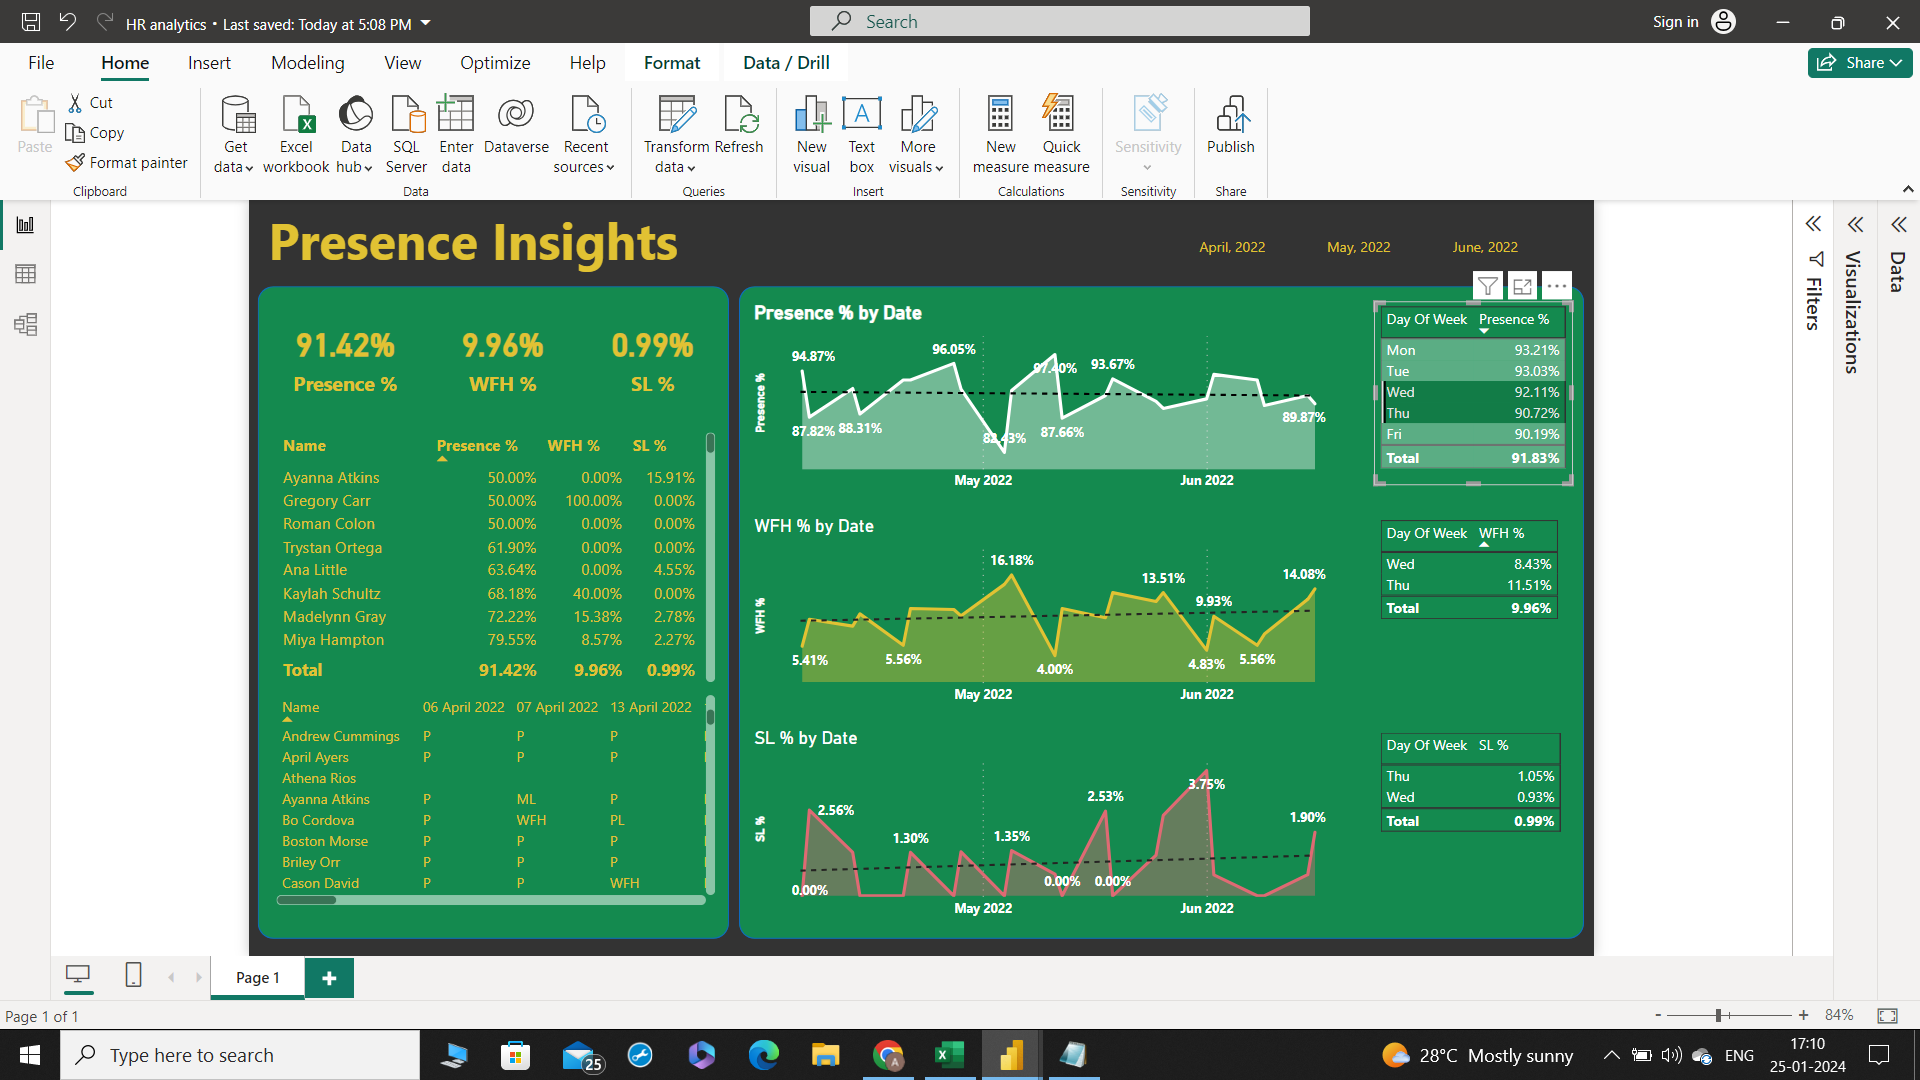

What the dashboard file says about the page in this screenshot:
{"tool":"powerbi","page":{"name":"Page 1","canvas":[1280,720],"ordinal":0},"visuals":[{"type":"shape","box":[8.3,82.1,448.7,621.2],"z":0},{"type":"shape","box":[466.5,82.1,804.5,621.2],"z":1000},{"type":"card","fields":{"Values":["Measure Table.Presence %"]},"box":[21.4,96.4,140.4,104.7],"z":2000},{"type":"slicer","fields":{"Values":["Final Data.Month"]},"box":[850.9,15.5,409.4,58.3],"z":3000},{"type":"card","fields":{"Values":["Measure Table.WFH %"]},"box":[185.7,96.4,111.9,104.7],"z":4000},{"type":"card","fields":{"Values":["Measure Table.SL %"]},"box":[320.1,96.4,128.5,104.7],"z":5000},{"type":"tableEx","fields":{"Values":["Final Data.Name","Measure Table.Presence %","Measure Table.WFH %","Measure Table.SL %"]},"box":[21.4,216.6,427.2,247.5],"z":6000},{"type":"textbox","box":[0,0,427.2,80.9],"z":7000},{"type":"pivotTable","fields":{"Rows":["Final Data.Name"],"Columns":["Final Data.Date"],"Values":["Min(Final Data.Value)"]},"box":[21.4,466.5,427.2,209.5],"z":8000},{"type":"areaChart","fields":{"Y":["Measure Table.Presence %"],"Category":["Final Data.Date"]},"box":[476,96.4,570,189.2],"z":9000},{"type":"areaChart","fields":{"Y":["Measure Table.WFH %"],"Category":["Final Data.Date"]},"box":[476,299.9,570,189.2],"z":10000},{"type":"areaChart","fields":{"Y":["Measure Table.SL %"],"Category":["Final Data.Date"]},"box":[476,502.2,570,190.4],"z":11000},{"type":"tableEx","fields":{"Values":["Final Data.Day Of Week","Measure Table.Presence %"]},"box":[1071.1,96.4,189.2,174.9],"z":12000},{"type":"tableEx","fields":{"Values":["Final Data.Day Of Week","Measure Table.WFH %"]},"box":[1071.1,299.9,189.2,164.2],"z":13000},{"type":"tableEx","fields":{"Values":["Final Data.Day Of Week","Measure Table.SL %"]},"box":[1071.1,502.2,189.2,164.2],"z":14000}]}

Visuals, with their boxes on the page's 1280x720 design canvas (x1, y1, x2, y2). These are canvas units, not pixel positions in the 1920x1080 screenshot, which may show the page scaled, cropped or inside an application window:
shape: 8:82:457:703
shape: 466:82:1271:703
card - Measure Table.Presence %: 21:96:162:201
slicer - Final Data.Month: 851:16:1260:74
card - Measure Table.WFH %: 186:96:298:201
card - Measure Table.SL %: 320:96:449:201
tableEx - Final Data.Name x Measure Table.Presence %: 21:217:449:464
textbox: 0:0:427:81
pivotTable - Final Data.Name x Final Data.Date: 21:466:449:676
areaChart - Measure Table.Presence % x Final Data.Date: 476:96:1046:286
areaChart - Measure Table.WFH % x Final Data.Date: 476:300:1046:489
areaChart - Measure Table.SL % x Final Data.Date: 476:502:1046:693
tableEx - Final Data.Day Of Week x Measure Table.Presence %: 1071:96:1260:271
tableEx - Final Data.Day Of Week x Measure Table.WFH %: 1071:300:1260:464
tableEx - Final Data.Day Of Week x Measure Table.SL %: 1071:502:1260:666
